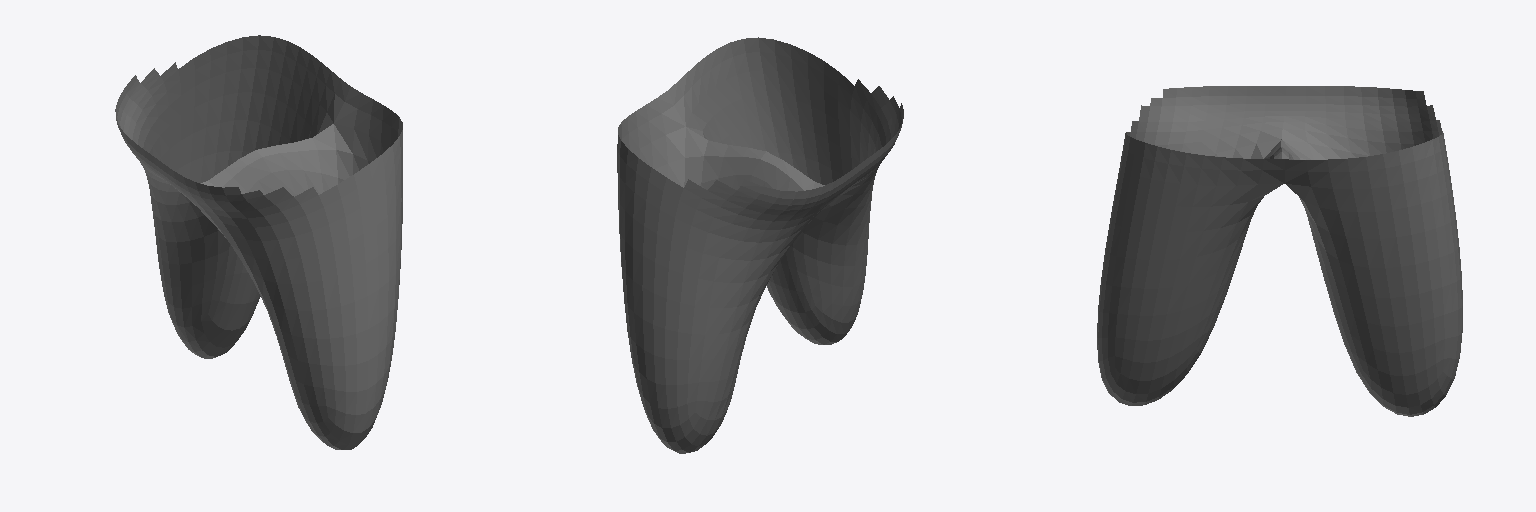
Rendered from Pants.obj.
3 views of the same model, side by side, from view 1: azimuth 30°, elevation 25°; view 2: azimuth 150°, elevation 25°; view 3: azimuth 270°, elevation 25° (orthographic).
Parts seen in each view (by area): view 1: human_maya_to_blender.002; view 2: human_maya_to_blender.002; view 3: human_maya_to_blender.002.
Boxes of the visible parts, x1=… form: human_maya_to_blender.002: x1=115, y1=35, x2=402, y2=449; human_maya_to_blender.002: x1=617, y1=37, x2=903, y2=453; human_maya_to_blender.002: x1=1097, y1=86, x2=1462, y2=416.
Bounding box in the file's own units: 0.4838 × 0.7041 × 0.7713.